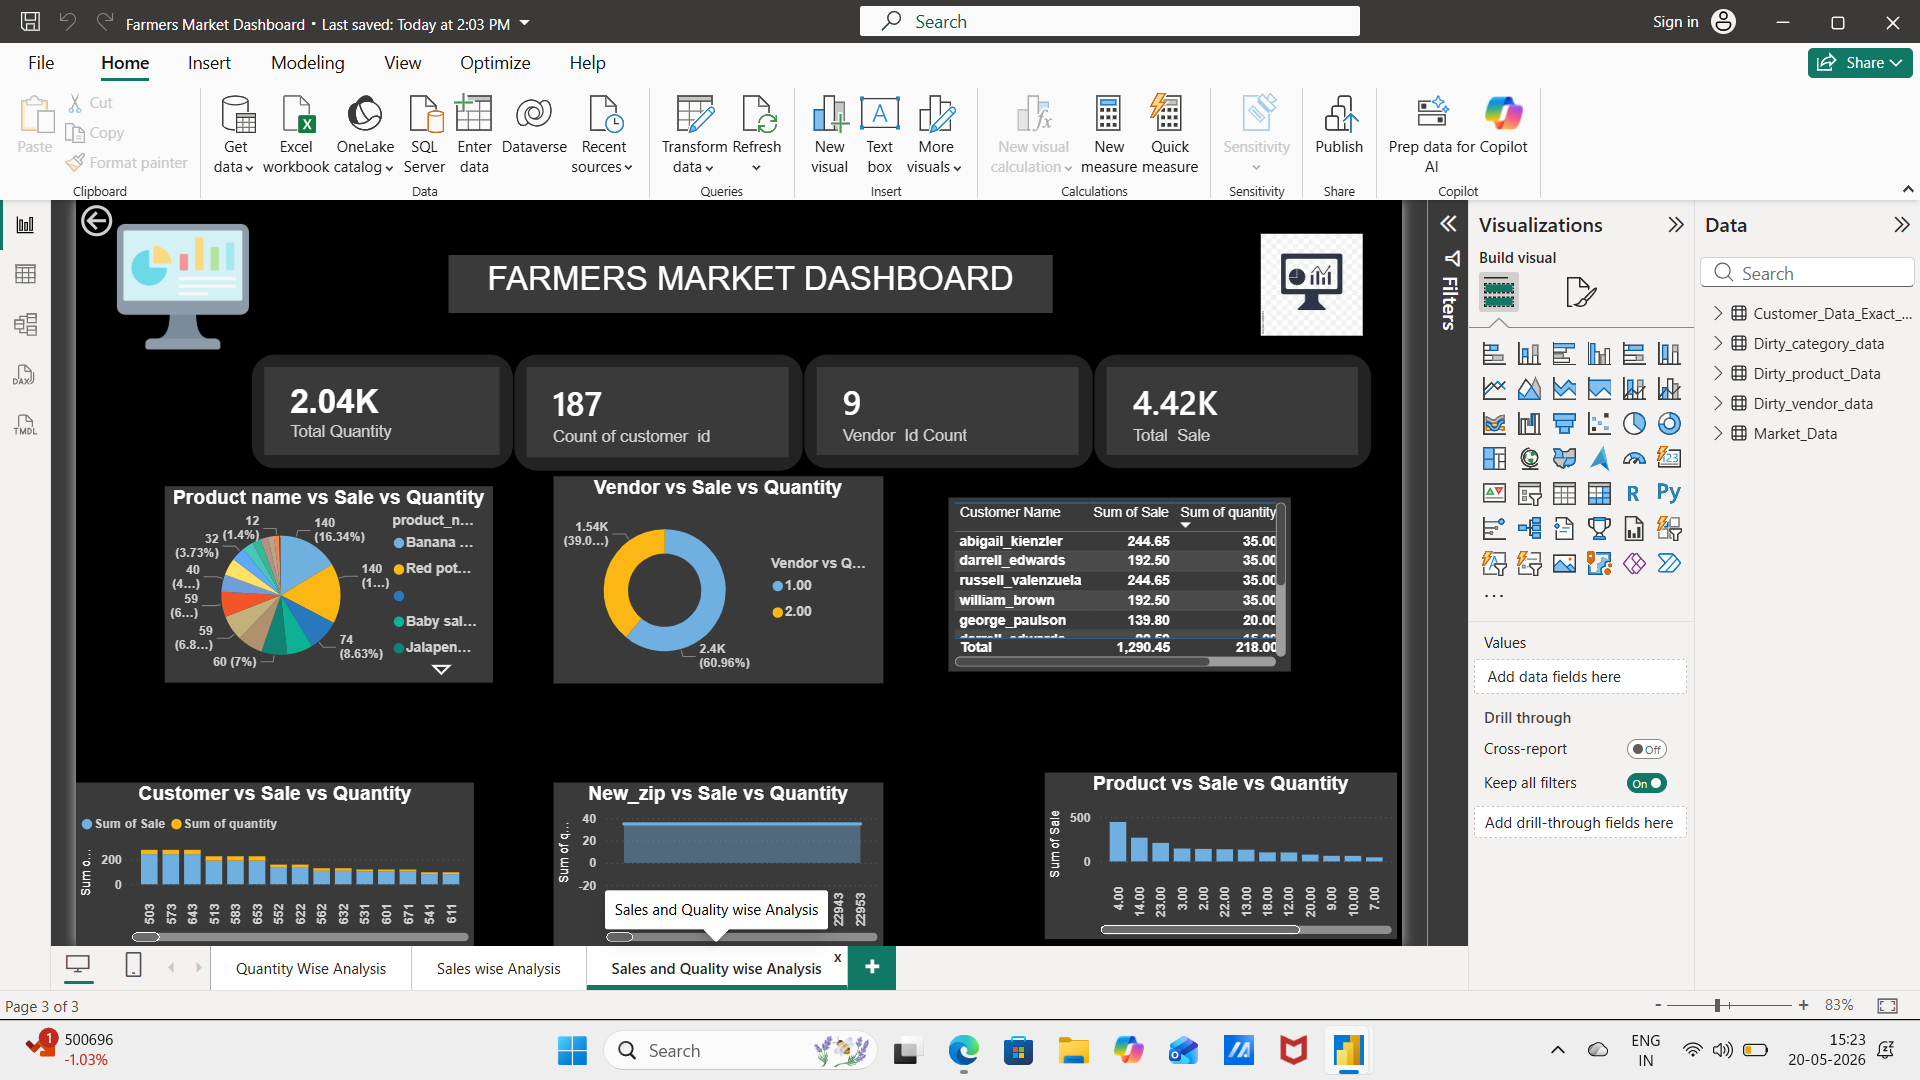

Layout of this report page (visuals, bound fields, positions):
{"tool":"powerbi","page":{"name":"Sales and Quantity wise Analysis","canvas":[1280,720],"ordinal":2},"visuals":[{"type":"clusteredColumnChart","title":"Product vs Sale vs Quantity","fields":{"Category":["sagar_style_dirty_product.product_id"],"Y":["Sum(Market_Data_Final (1).Sale)"]},"box":[934.7,552,340,161.1],"z":0},{"type":"cardVisual","fields":{"Data":["Sum(Market_Data_Final (1).quantity)"]},"box":[168.8,148.2,253.9,111.1],"z":1000},{"type":"pieChart","title":"Product name vs Sale vs Quantity","fields":{"Category":["sagar_style_dirty_product.product_name"],"Y":["Sum(Market_Data_Final (1).quantity)"]},"box":[85.4,276.7,316.6,190],"z":2000},{"type":"donutChart","title":"Vendor vs Sale vs Quantity","fields":{"Y":["Sum(Market_Data_Final (1).Sale)"],"Category":["Market_Data_Final (1).vendor_id"]},"box":[461.2,267.1,318,199.6],"z":3000},{"type":"actionButton","box":[0,0,100,40],"z":4000},{"type":"textbox","box":[359.5,53.5,583.2,56.3],"z":5000},{"type":"image","box":[1104.6,32.9,175.6,98.8],"z":6000},{"type":"image","box":[0,15.1,205.8,135.8],"z":7000},{"type":"cardVisual","fields":{"Data":["CountNonNull(Market_Data_Final (1).customer_id)"]},"box":[422.6,148.2,279.9,113.9],"z":8000},{"type":"cardVisual","fields":{"Data":["CountNonNull(dirty_vendor_data.vendor_id)"]},"box":[702.6,148.2,279.9,111.1],"z":9000},{"type":"cardVisual","fields":{"Data":["Market_Data_Final (1).Total_Sale"]},"box":[982.5,148.2,269,111.1],"z":10000},{"type":"tableEx","fields":{"Values":["Customer_Data_Exact_Format.customer_full_name","Sum(Market_Data_Final (1).Sale)","Sum(Market_Data_Final (1).quantity)","Market_Data_Final (1).product_id"]},"box":[842.5,287.7,330.4,168],"z":11000},{"type":"columnChart","title":"Customer vs Sale vs Quantity","fields":{"Category":["Market_Data_Final (1).customer_id"],"Y":["Sum(Market_Data_Final (1).Sale)","Sum(Market_Data_Final (1).quantity)"]},"box":[0,561.7,384.1,158.3],"z":12000},{"type":"areaChart","title":" New_zip vs Sale vs Quantity","fields":{"Category":["Customer_Data_Exact_Format.New_zip"],"Y":["Sum(Market_Data_Final (1).quantity)"]},"box":[461.2,561.7,318,158.3],"z":13000}]}

Visuals, with their boxes on the page's 1280x720 design canvas (x1, y1, x2, y2). These are canvas units, not pixel positions in the 1920x1080 screenshot, which may show the page scaled, cropped or inside an application window:
"Product vs Sale vs Quantity" clusteredColumnChart: [x1=935, y1=552, x2=1275, y2=713]
cardVisual - Sum(Market_Data_Final (1).quantity): [x1=169, y1=148, x2=423, y2=259]
"Product name vs Sale vs Quantity" pieChart: [x1=85, y1=277, x2=402, y2=467]
"Vendor vs Sale vs Quantity" donutChart: [x1=461, y1=267, x2=779, y2=467]
actionButton: [x1=0, y1=0, x2=100, y2=40]
textbox: [x1=360, y1=54, x2=943, y2=110]
image: [x1=1105, y1=33, x2=1280, y2=132]
image: [x1=0, y1=15, x2=206, y2=151]
cardVisual - CountNonNull(Market_Data_Final (1).customer_id): [x1=423, y1=148, x2=702, y2=262]
cardVisual - CountNonNull(dirty_vendor_data.vendor_id): [x1=703, y1=148, x2=982, y2=259]
cardVisual - Market_Data_Final (1).Total_Sale: [x1=982, y1=148, x2=1252, y2=259]
tableEx - Customer_Data_Exact_Format.customer_full_name x Sum(Market_Data_Final (1).Sale): [x1=842, y1=288, x2=1173, y2=456]
"Customer vs Sale vs Quantity" columnChart: [x1=0, y1=562, x2=384, y2=720]
" New_zip vs Sale vs Quantity" areaChart: [x1=461, y1=562, x2=779, y2=720]
